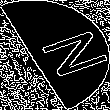N_SW: (13, 26, 97, 84)
